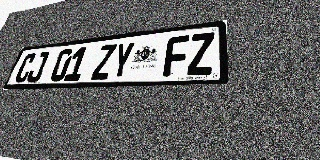0: (49, 49, 74, 82)
1: (64, 47, 89, 81)
C: (13, 53, 37, 83)
F: (163, 35, 190, 77)
J: (25, 51, 50, 83)
Y: (109, 41, 135, 79)
Z: (187, 32, 214, 75), (91, 44, 117, 80)
